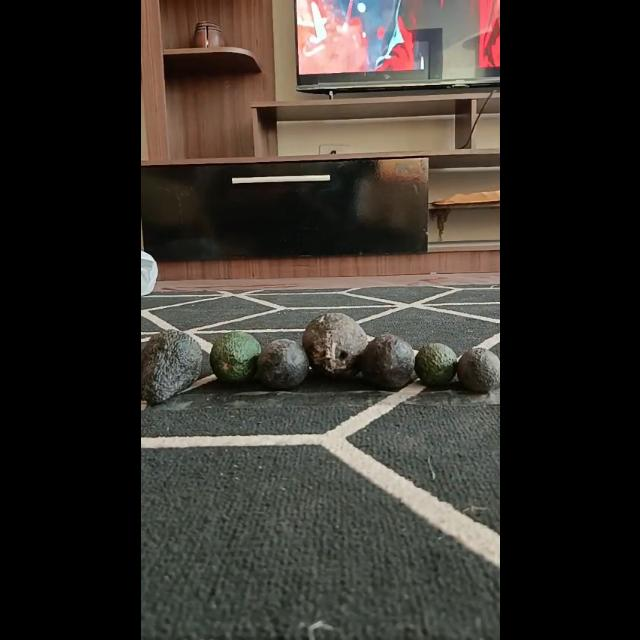Primera: (140, 330, 203, 404), (302, 312, 366, 376)
Segunda: (356, 334, 416, 388), (208, 332, 262, 382), (256, 338, 308, 389)
Tercera: (414, 341, 458, 385), (456, 348, 498, 392)
